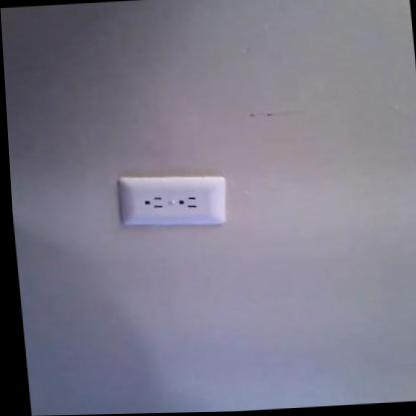OUTLET: (117, 169, 231, 229)
